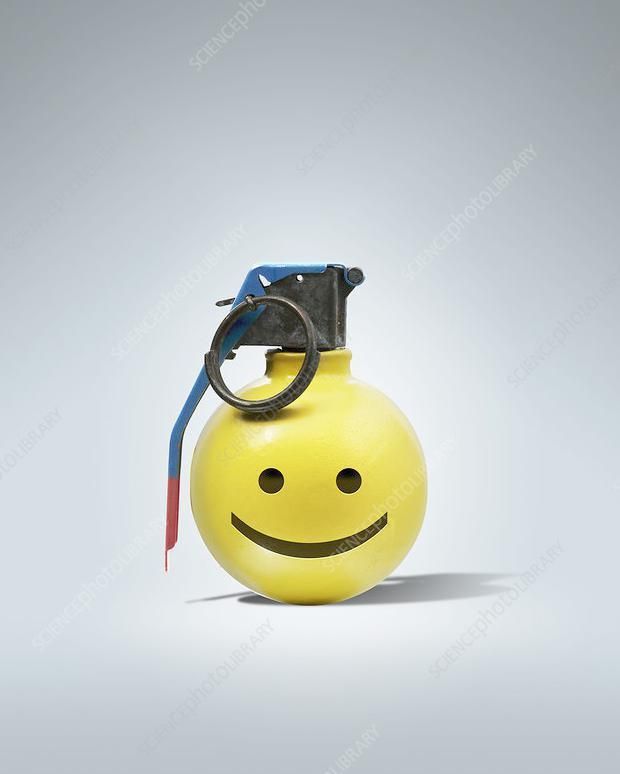Grenade: (163, 260, 429, 606)
